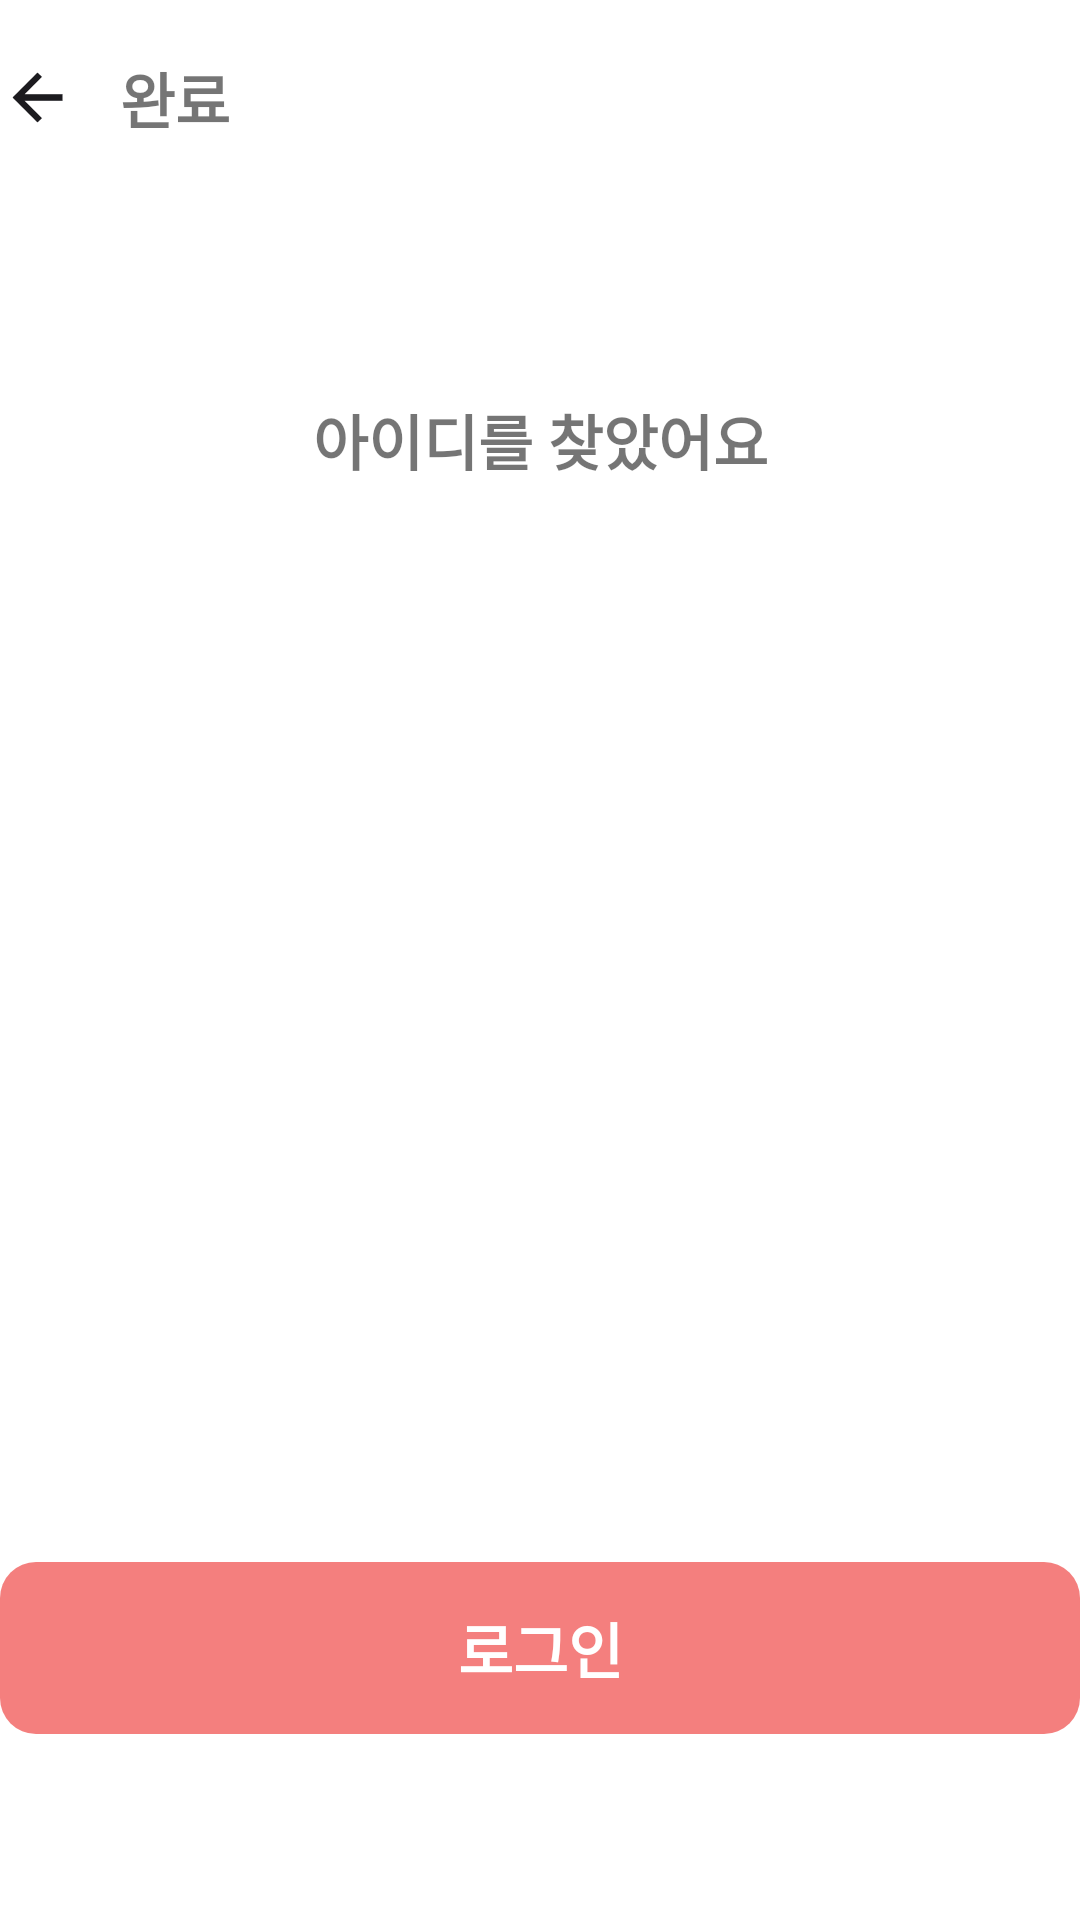

Locate icon controls on the screen. Image size 1080w x 1920h, boxes as [x1,y1,x2,y2].
back: [12,72,63,123]
